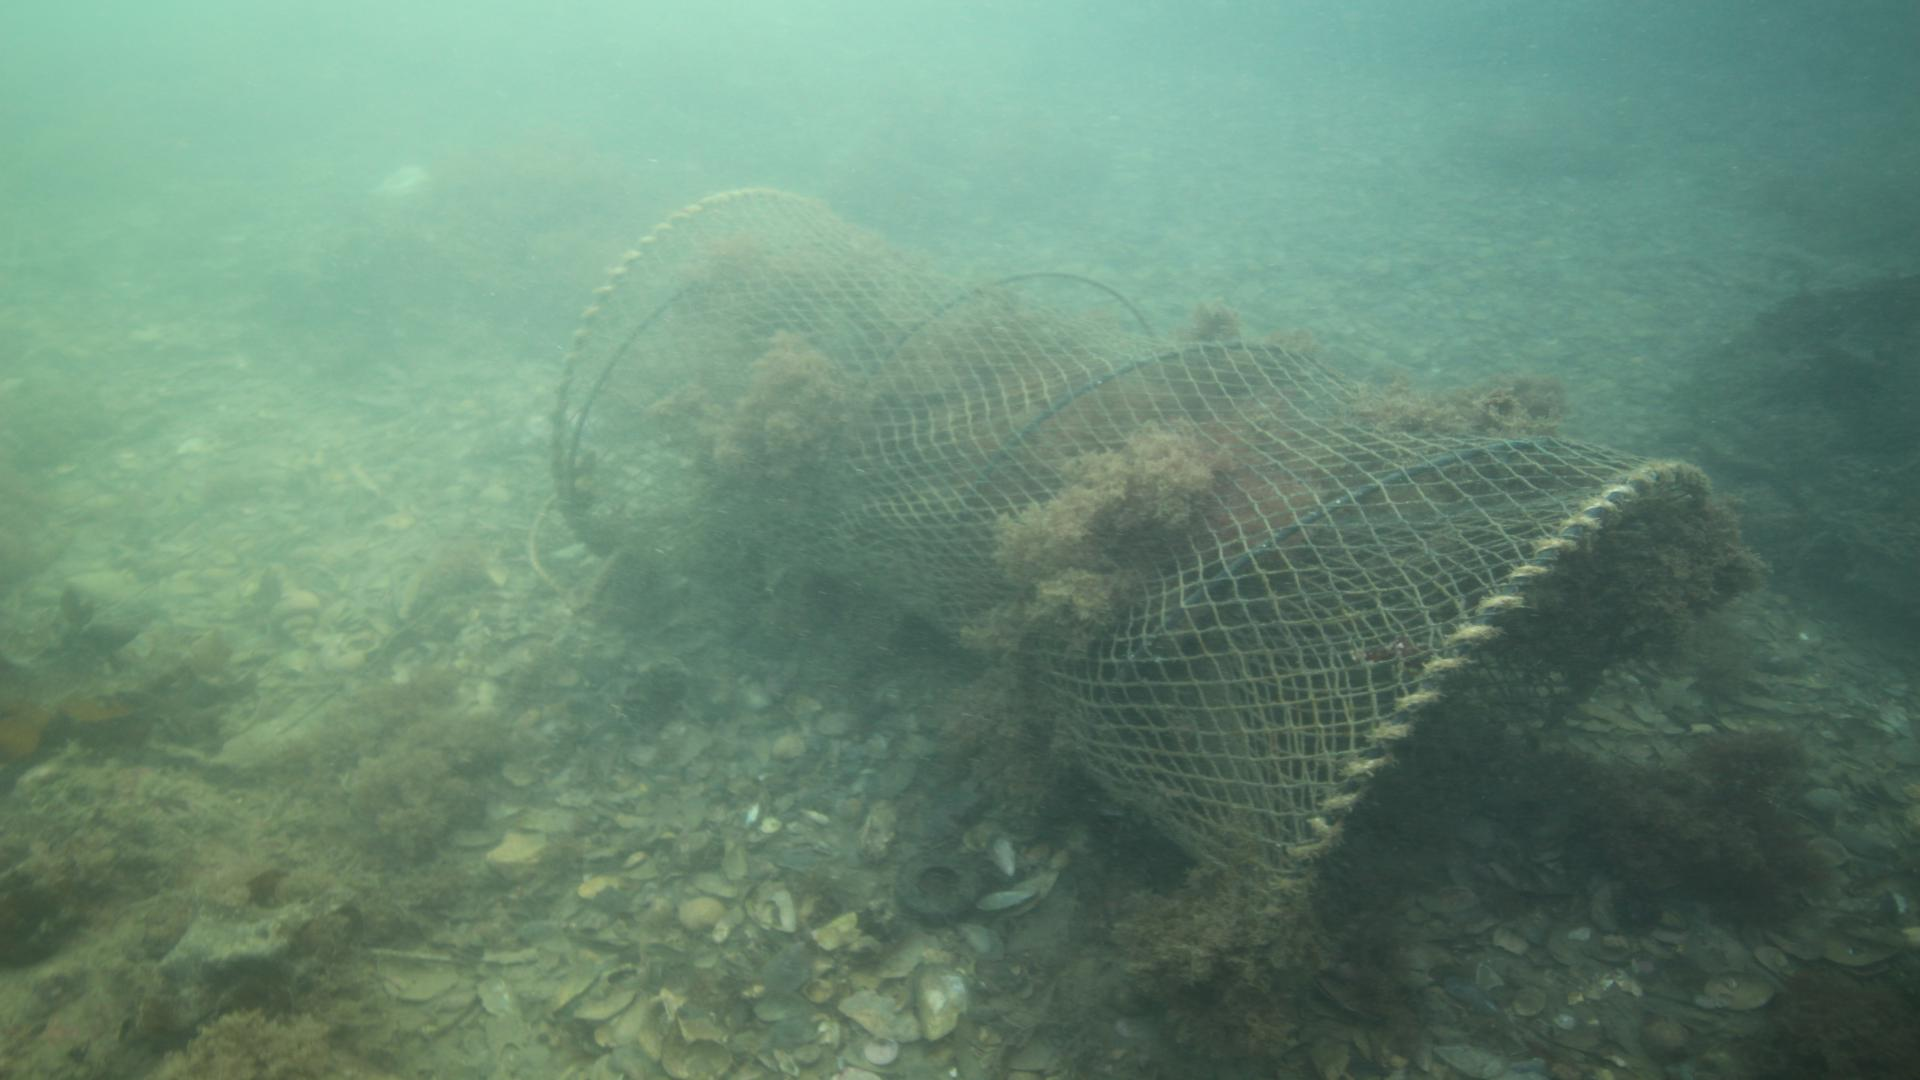spring fish trap: (549, 186, 1713, 918)
